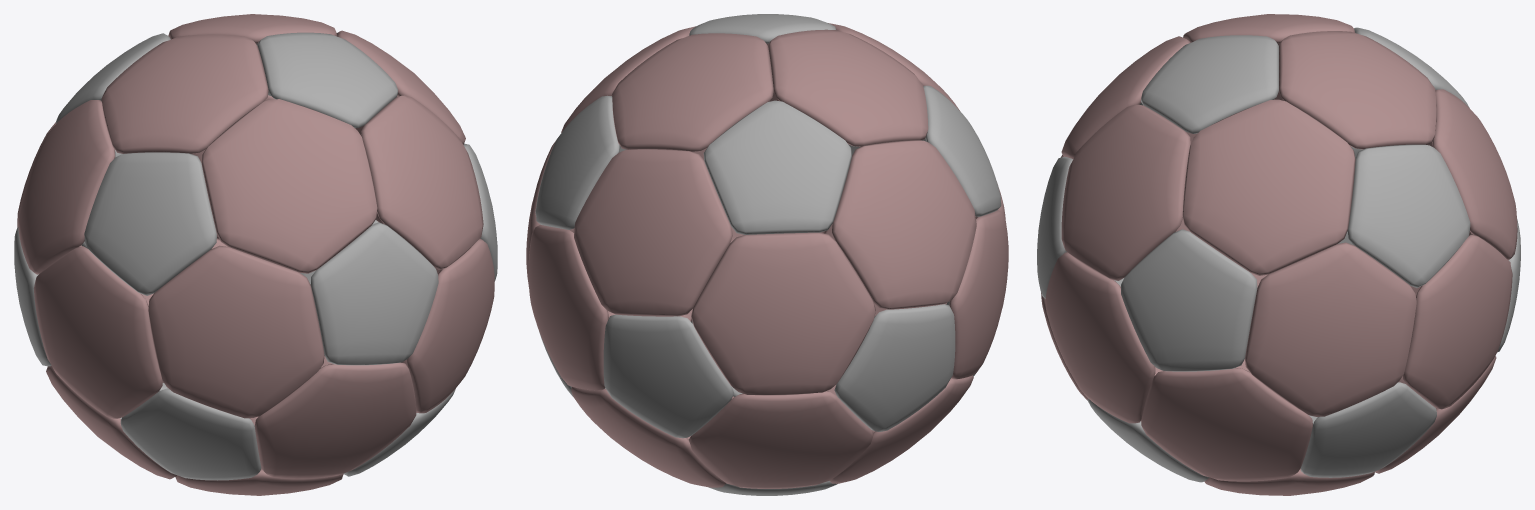
File: fuchibol.fbx
3 views of the same model, side by side, from view 1: azimuth 30°, elevation 25°; view 2: azimuth 150°, elevation 25°; view 3: azimuth 270°, elevation 25° (orthographic).
Parts seen in each view (by area): view 1: pSolid1; view 2: pSolid1; view 3: pSolid1.
Part boxes in pixels (box(x1,y1,x2,y2)): pSolid1: box(14, 14, 497, 495); pSolid1: box(526, 14, 1008, 495); pSolid1: box(1037, 14, 1520, 495).
Bounding box in the file's own units: 0.603 × 0.6029 × 0.6033.
